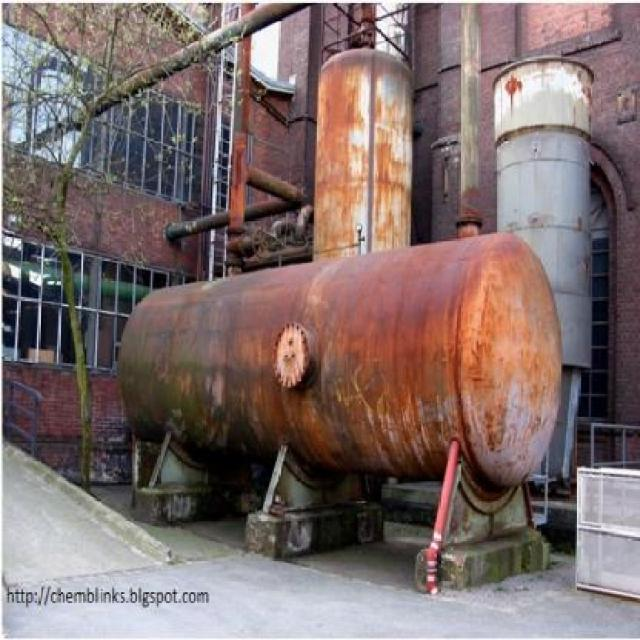corrosion: (122, 42, 615, 486)
